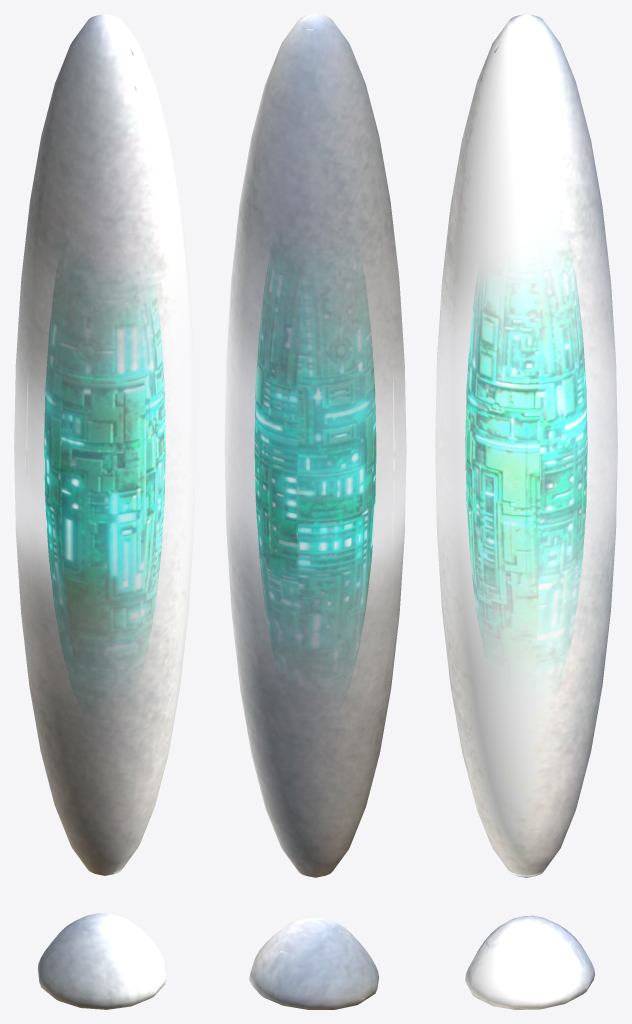
File: FloorLamp.glb
3 views of the same model, side by side, from view 1: azimuth 30°, elevation 25°; view 2: azimuth 150°, elevation 25°; view 3: azimuth 270°, elevation 25° (orthographic).
Parts seen in each view (by area): view 1: 球体.003, 球体.006, Retopo_球体.011; view 2: 球体.003, 球体.006, Retopo_球体.011; view 3: 球体.003, 球体.006, Retopo_球体.011.
Boxes of the visible parts, x1=… form: 球体.003: x1=14, y1=14, x2=195, y2=875; 球体.006: x1=44, y1=283, x2=165, y2=653; Retopo_球体.011: x1=37, y1=913, x2=166, y2=1009; 球体.003: x1=224, y1=14, x2=406, y2=877; 球体.006: x1=254, y1=266, x2=376, y2=655; Retopo_球体.011: x1=249, y1=917, x2=378, y2=1009; 球体.003: x1=435, y1=14, x2=617, y2=877; 球体.006: x1=465, y1=267, x2=587, y2=650; Retopo_球体.011: x1=465, y1=915, x2=595, y2=1009.
Size of what is drawn, in the model's own units: 1.62 by 9.58 by 1.62.
2 materials, 2 textured.
